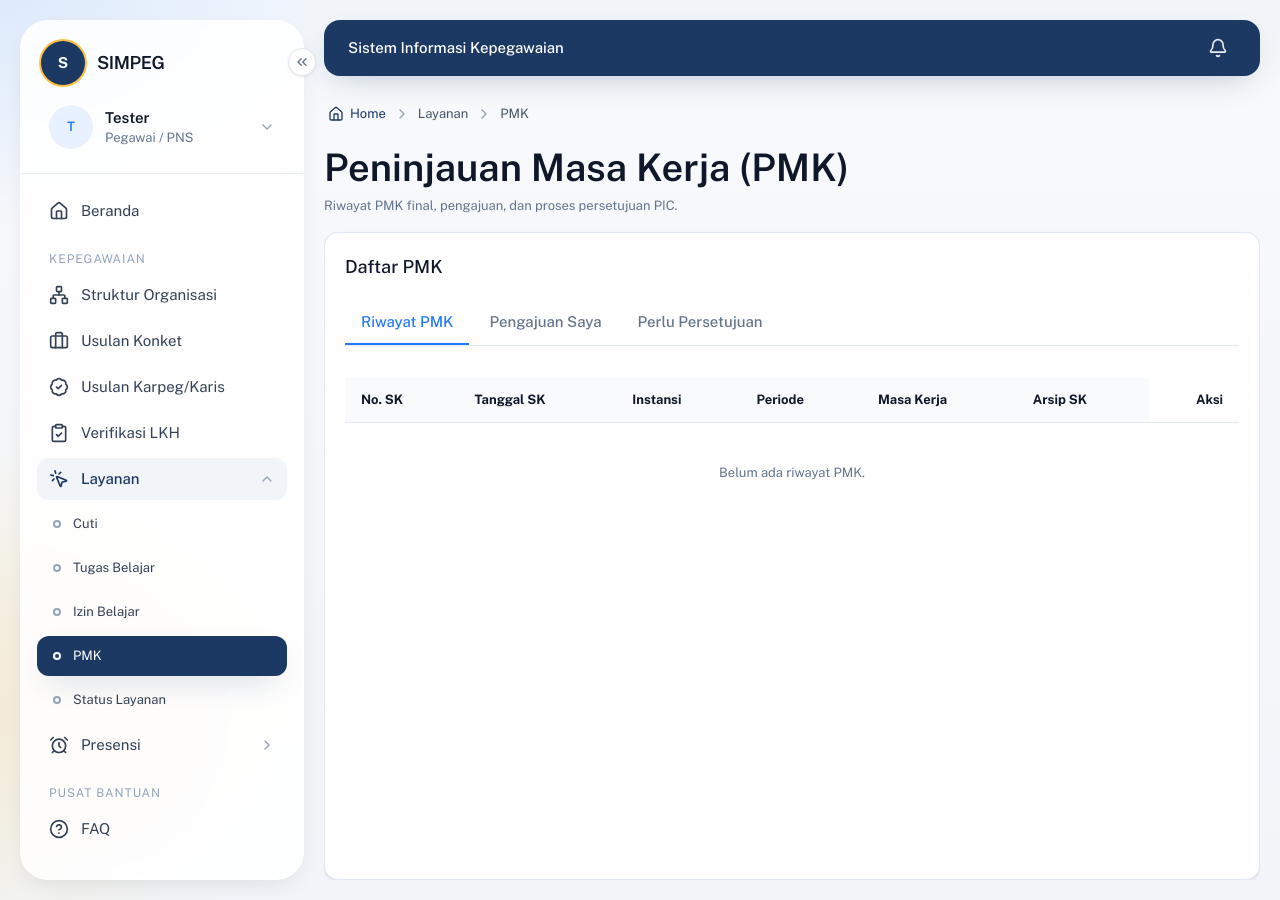
Test: PmkPage — tab per role › tombol Ajukan PMK hanya pada tab pengajuan dan bila can_create dari server
The width and height of the screenshot is (1280, 900).
Click the tab "Pengajuan Saya": (545, 323) 473,301 -> 618,345
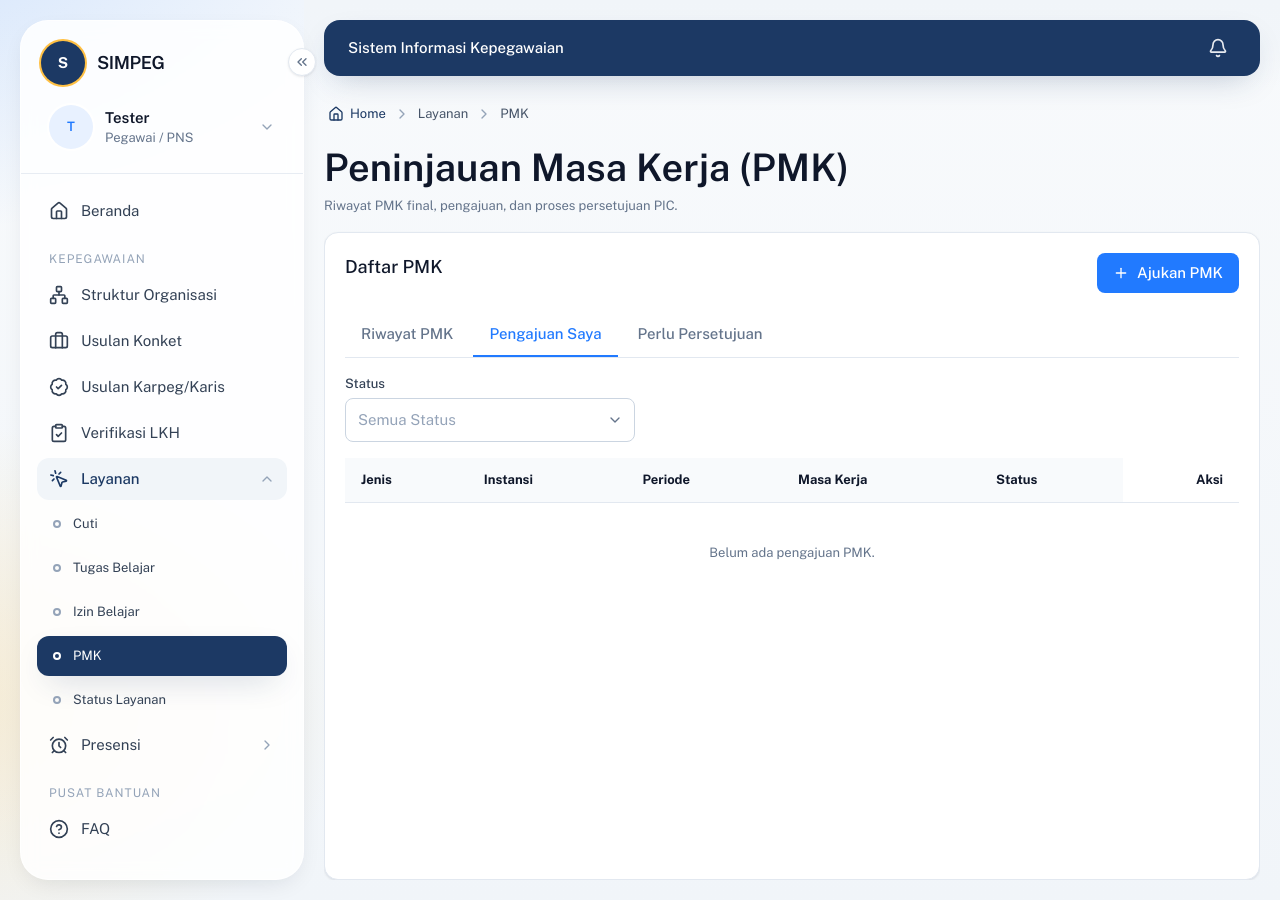
Now the button with test id "pmk-tambah" is shown, box 1097,253 -> 1239,293
